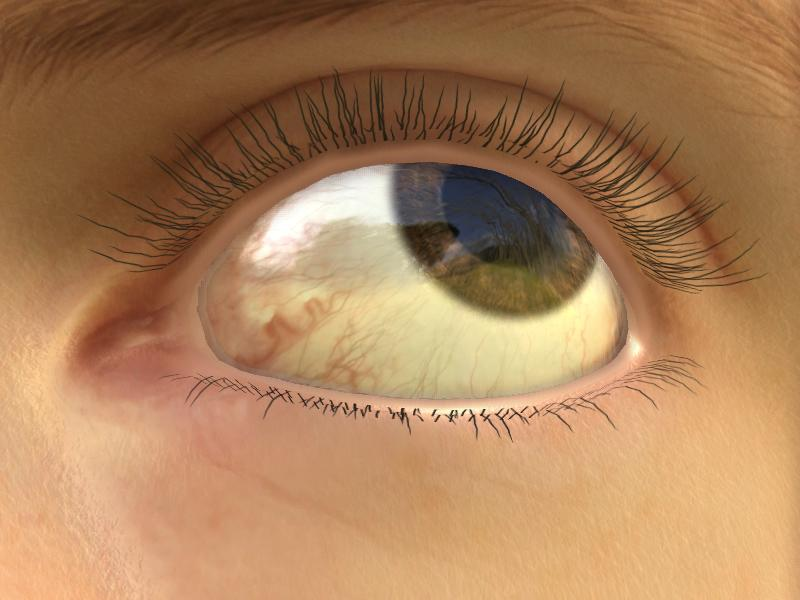eye: (390, 159, 597, 314)
